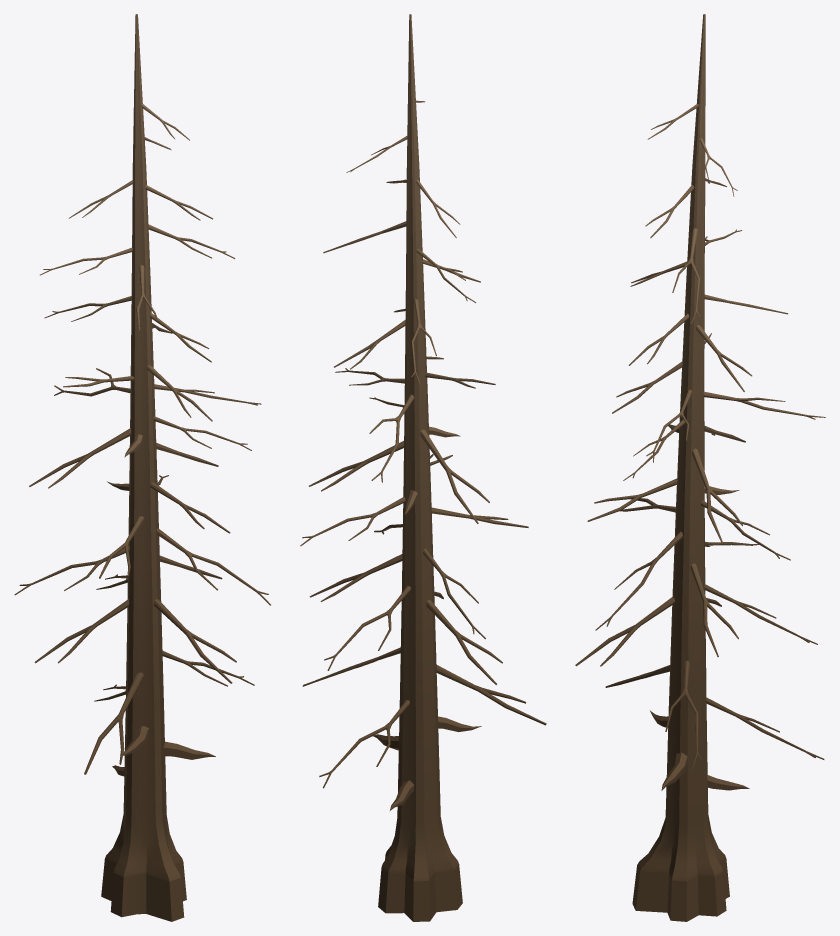
The model's file is Tree_08.fbx.
3 renders of one model, left to right at view 1: azimuth 30°, elevation 25°; view 2: azimuth 150°, elevation 25°; view 3: azimuth 270°, elevation 25°, orthographic.
Visible parts, largest first — view 1: Tree_08_LOD0; view 2: Tree_08_LOD0; view 3: Tree_08_LOD0.
Part boxes in pixels (x1,y1,x2,y2): Tree_08_LOD0: [14, 14, 270, 921]; Tree_08_LOD0: [300, 14, 546, 921]; Tree_08_LOD0: [575, 14, 825, 921].
Size of what is drawn, in the model's own units: 1.75 by 7.02 by 1.79.
